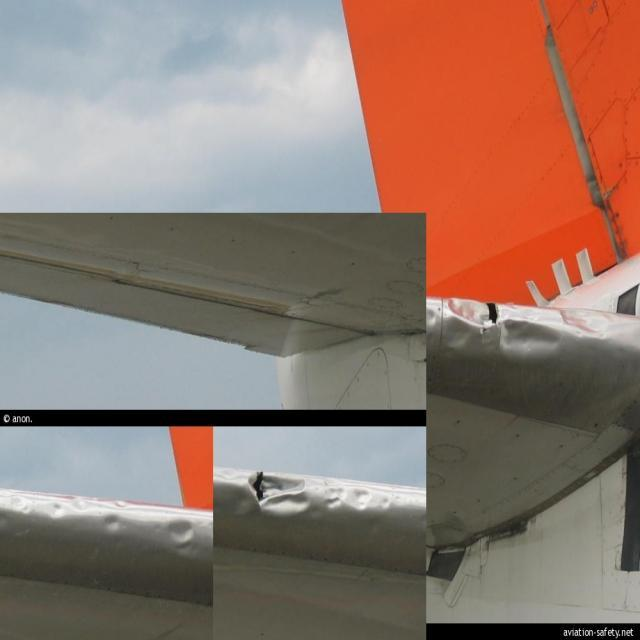dent: (446, 297, 568, 359), (245, 474, 314, 519), (561, 304, 618, 342), (329, 484, 377, 515), (168, 518, 202, 550)
